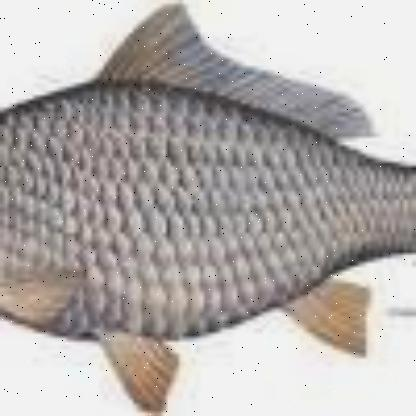ikan-mas: (0, 28, 406, 373)
